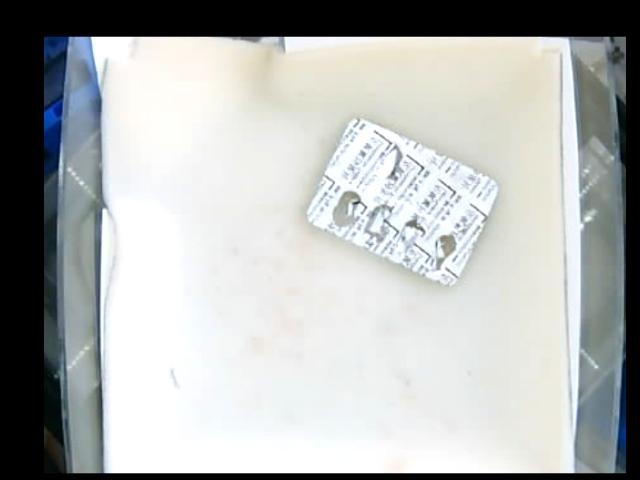Medicine: (305, 114, 497, 286)
